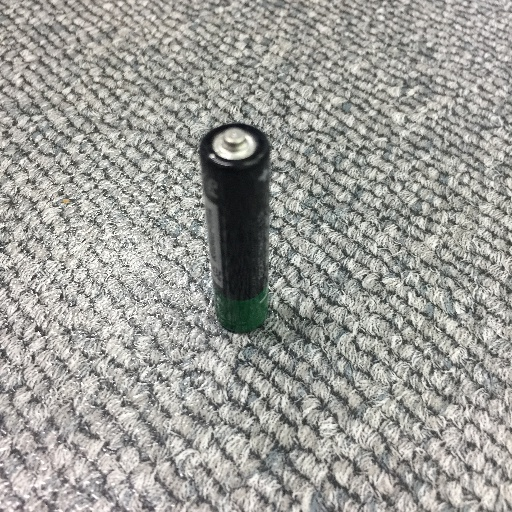Battery_0: (193, 111, 283, 343)
